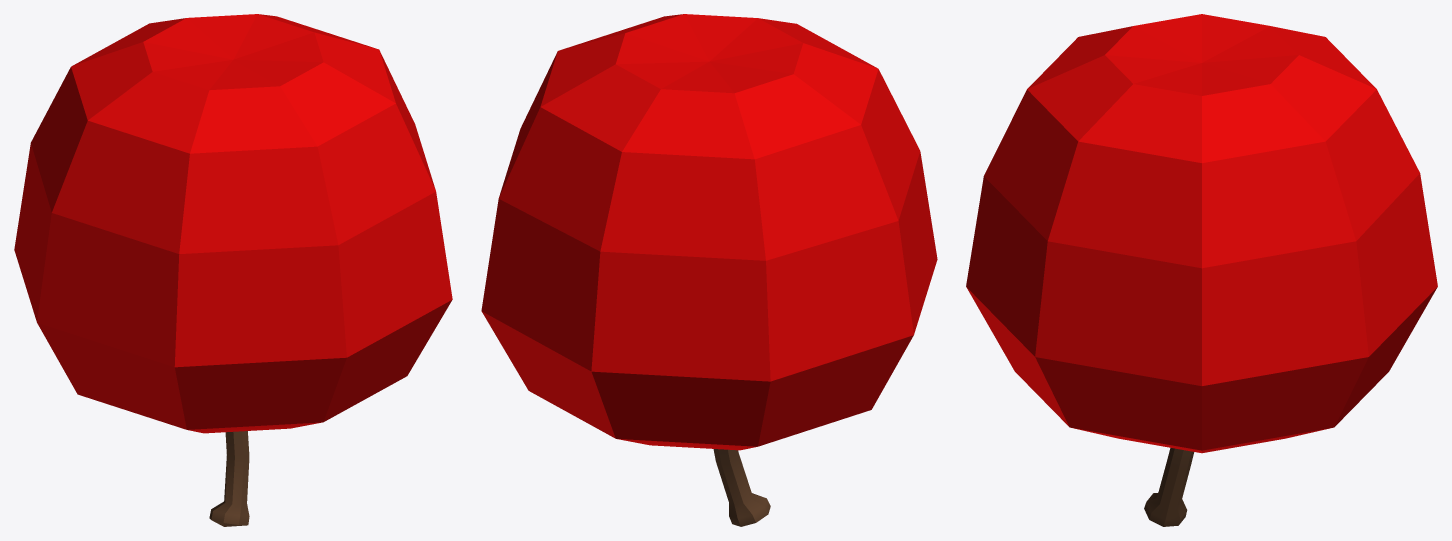
Rendered from Apple.fbx.
3 views of the same model, side by side, from view 1: azimuth 30°, elevation 25°; view 2: azimuth 150°, elevation 25°; view 3: azimuth 270°, elevation 25° (orthographic). The views are drawn at different scales.
Visible parts, largest first — view 1: pSphere4; view 2: pSphere4; view 3: pSphere4.
Boxes of the visible parts, x1,y1,x2,y2 form: pSphere4: [14, 14, 452, 526]; pSphere4: [481, 14, 937, 526]; pSphere4: [966, 14, 1437, 526].
Size of the model in its own units: 466 by 519 by 466.
